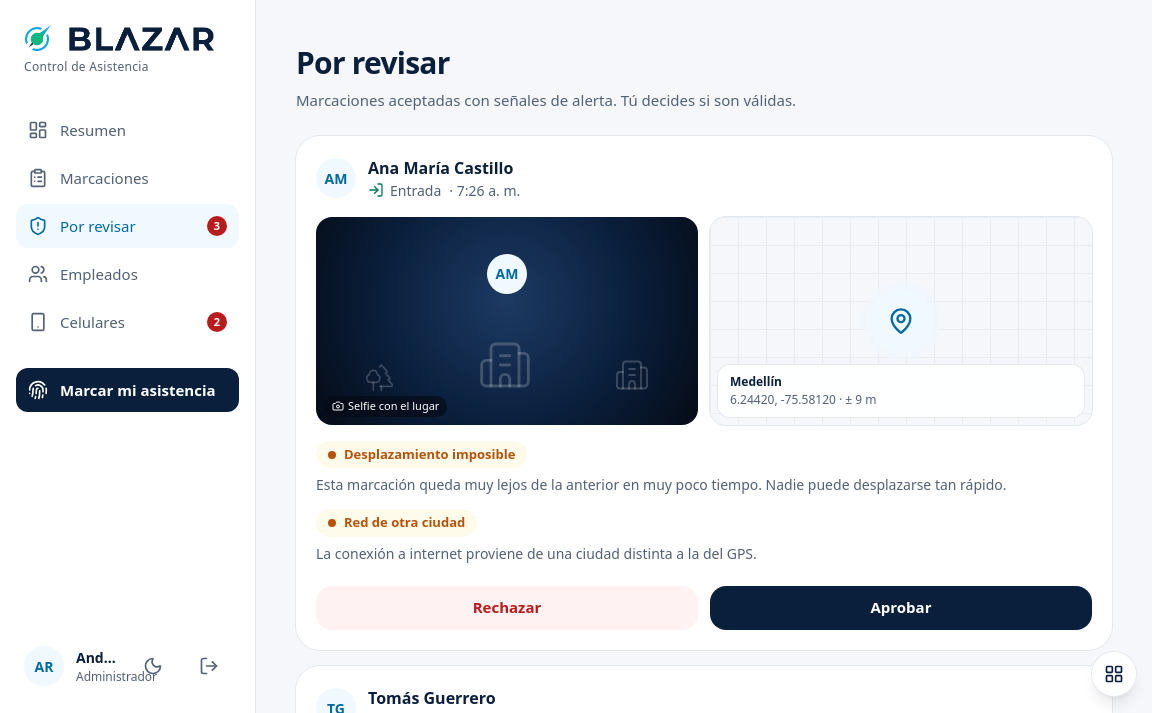
Scenario: Por revisar › aprobar quita la marcación de la cola y actualiza el contador
Expected: the heading "Por revisar" is shown, [296, 42, 450, 83]
What coordinates should you click on to do the following:
click the button "Aprobar"
I would click on:
 (901, 608)
Its box is [710, 586, 1092, 630].
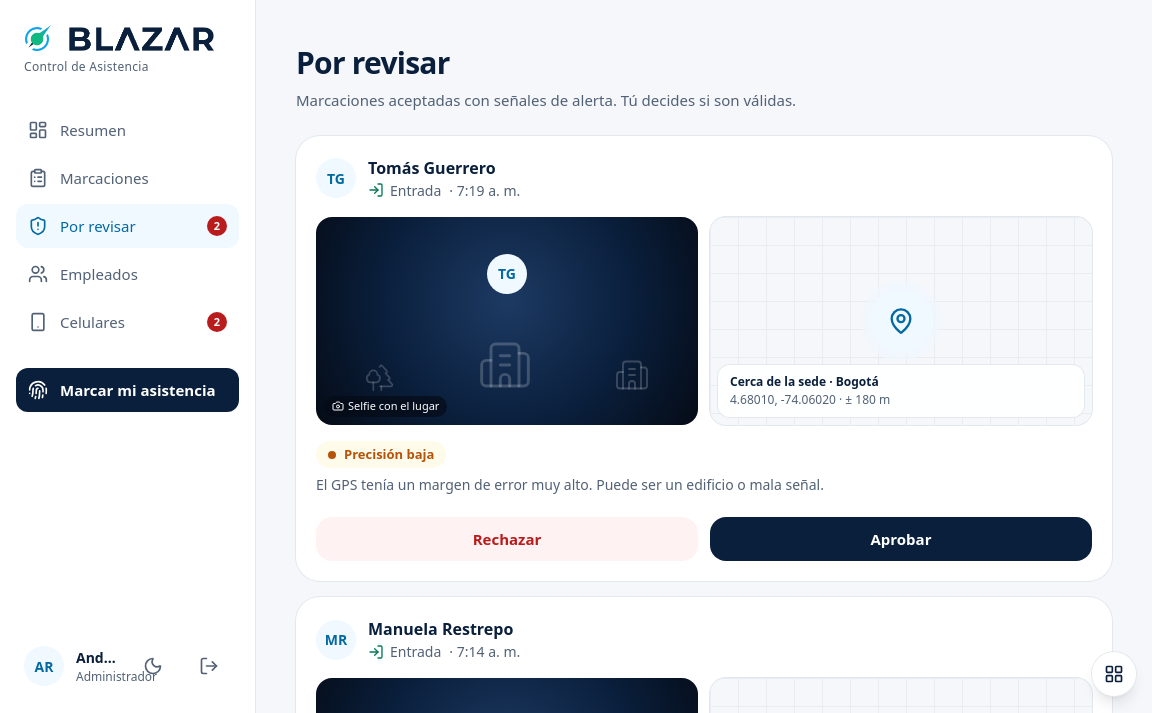
Result: the number of buttons "Aprobar" is 2
Result: the link "Por revisar 2" is shown at [16, 204, 239, 248]
